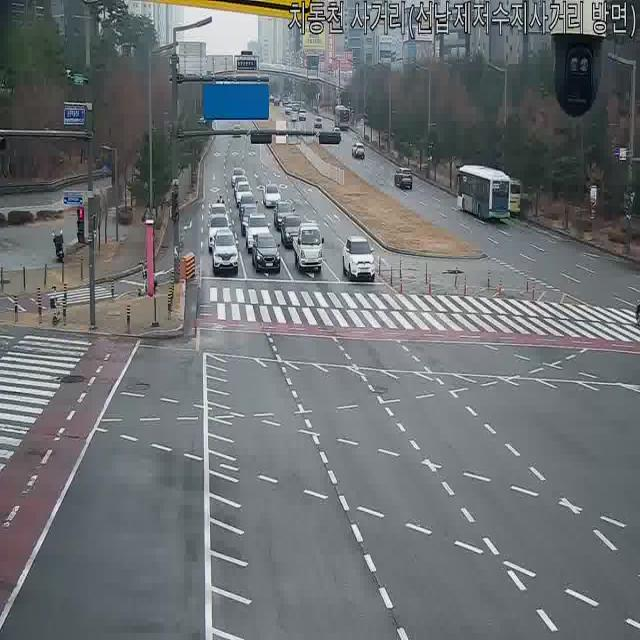Bus: (456, 163, 516, 225), (500, 178, 524, 217), (333, 103, 351, 131)
Car: (342, 235, 375, 282), (210, 230, 240, 276), (251, 232, 281, 274), (244, 214, 271, 252), (206, 215, 232, 251), (280, 215, 306, 249), (274, 200, 296, 230), (208, 202, 230, 231), (240, 207, 262, 235), (239, 193, 258, 221), (235, 180, 253, 208), (262, 184, 282, 208), (394, 168, 414, 189), (230, 167, 247, 188), (634, 288, 640, 336), (352, 142, 366, 159), (314, 116, 323, 130), (289, 110, 298, 124), (284, 103, 294, 115), (298, 109, 306, 120)
Motorcycle: (216, 192, 226, 214)
Truck: (294, 221, 324, 274)
